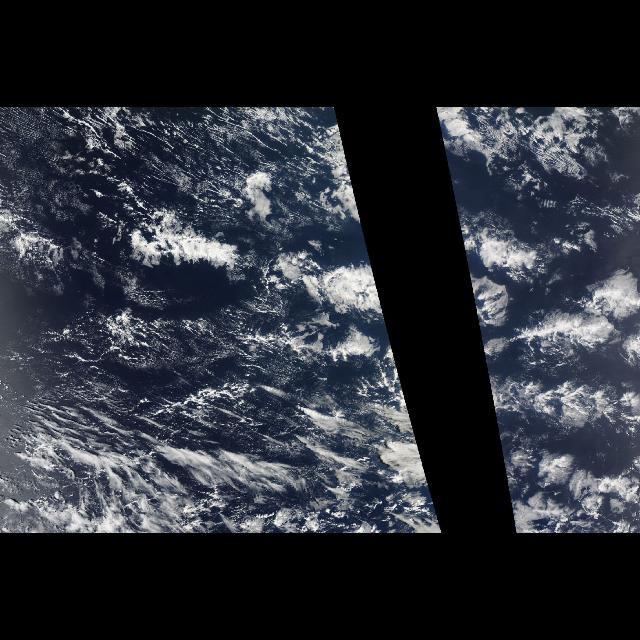Fish: (484, 304, 640, 450), (108, 178, 250, 294), (374, 356, 418, 442)
Flower: (458, 205, 636, 449)
